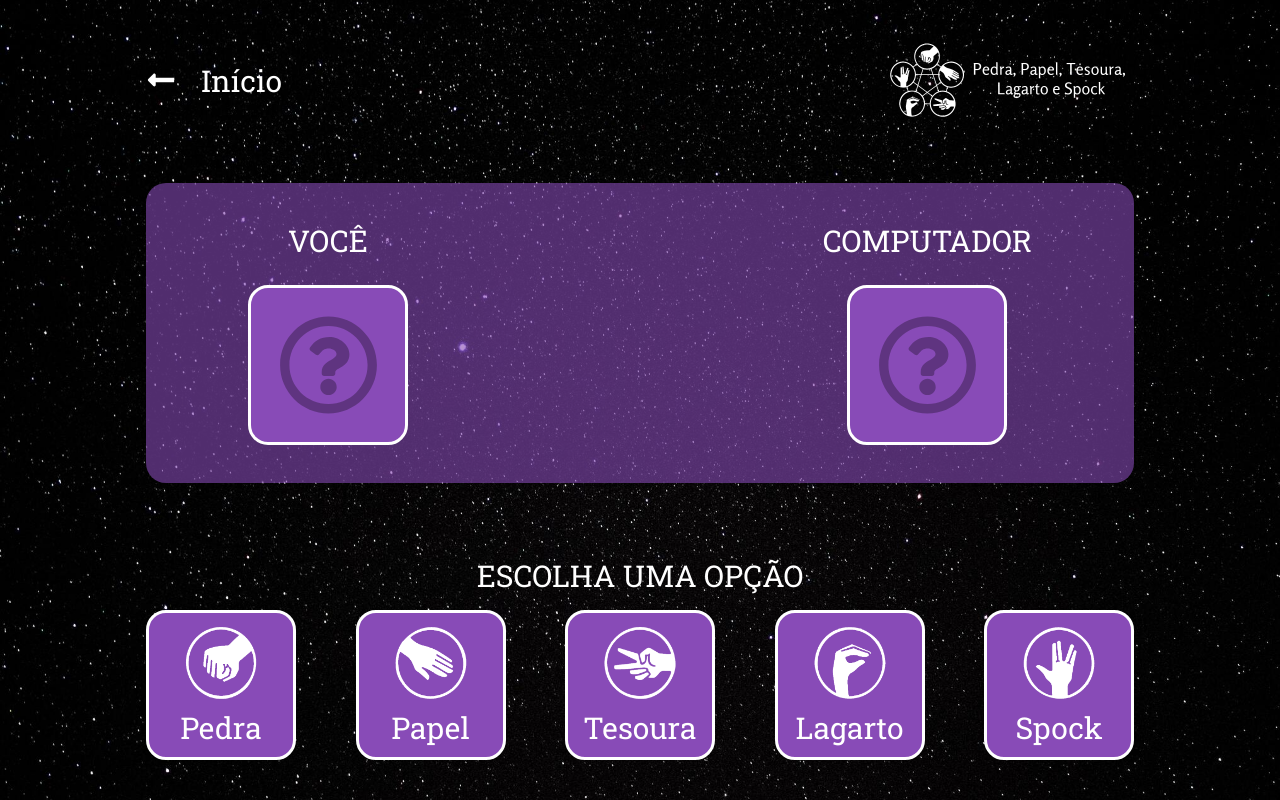
Test: Home page › should be able to render selected hand in the player card side
Click the button "Spock". click: (1059, 685)
box: [984,610,1134,760]
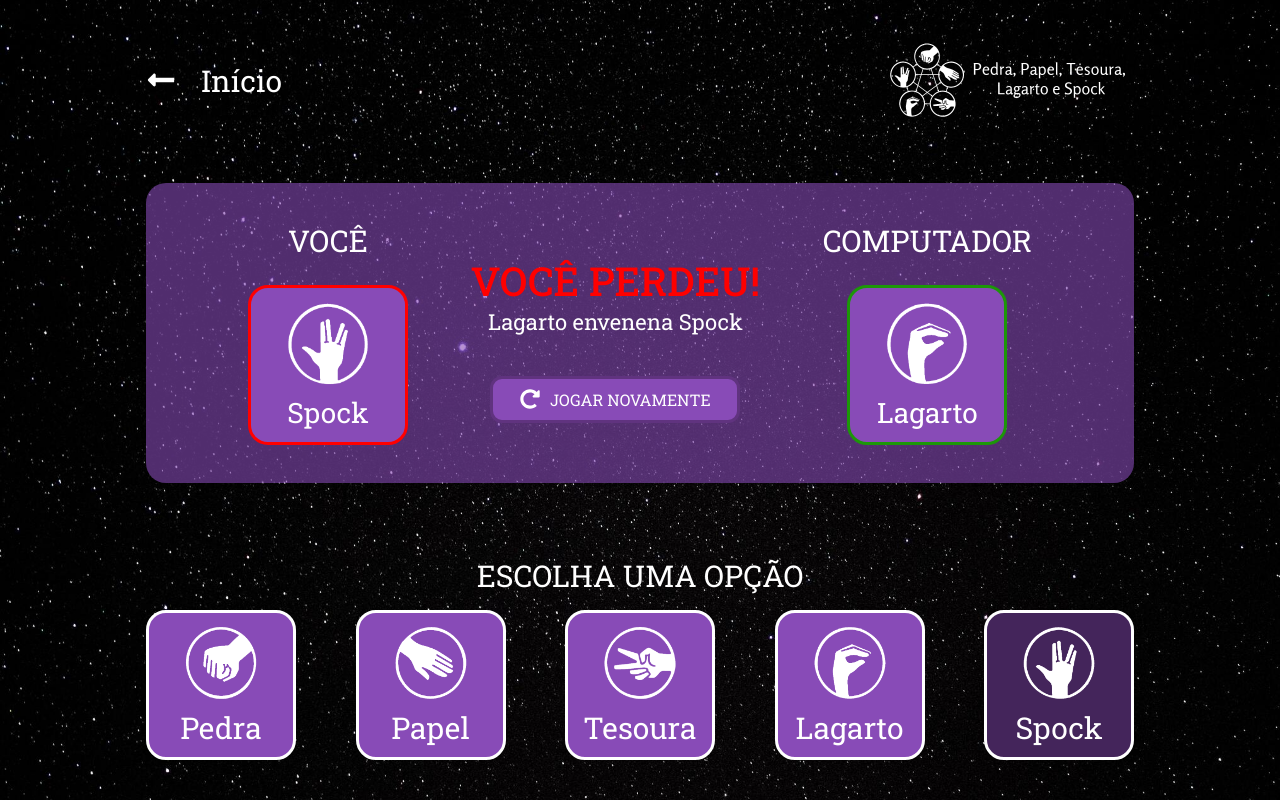
Now the text with test id "playerSelectedHand" reads "Spock", box [287,394,369,431]
